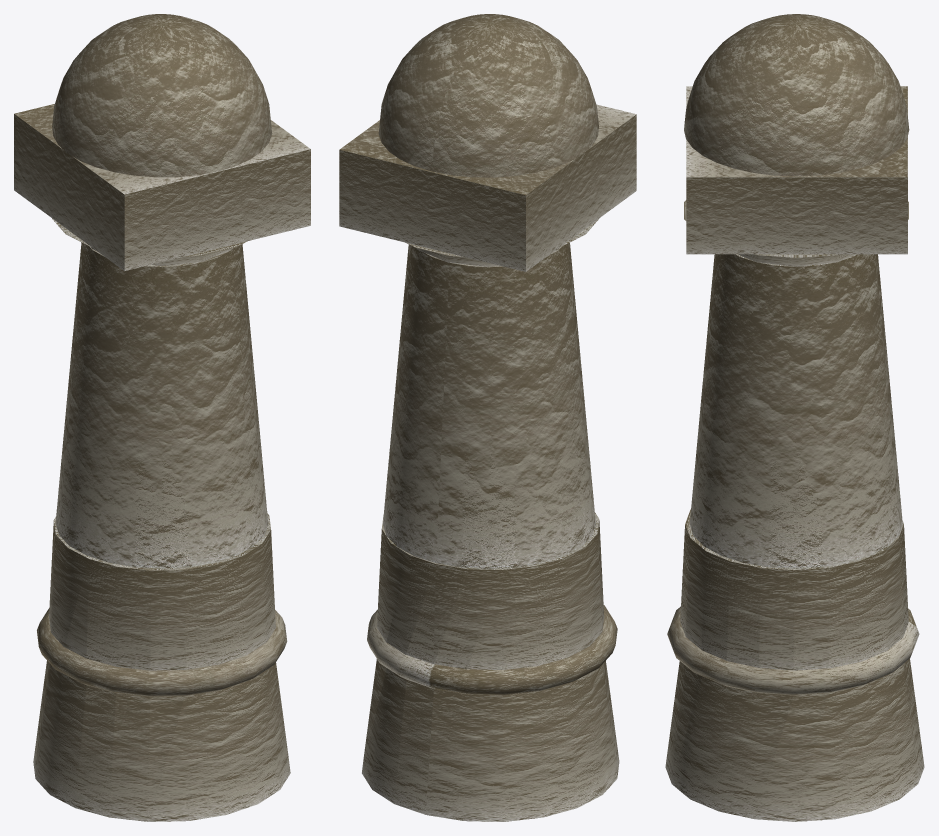
Rendered from pene.FBX.
3 views of the same model, side by side, from view 1: azimuth 30°, elevation 25°; view 2: azimuth 150°, elevation 25°; view 3: azimuth 270°, elevation 25° (orthographic).
Visible parts, largest first — view 1: Sphere001; view 2: Sphere001; view 3: Sphere001.
Boxes of the visible parts, x1,y1,x2,y2 form: Sphere001: (14,14,310,821); Sphere001: (339,14,636,821); Sphere001: (665,14,924,821).
Bounding box in the file's own units: 87.86 × 278 × 87.86.
1 material, 1 textured.
